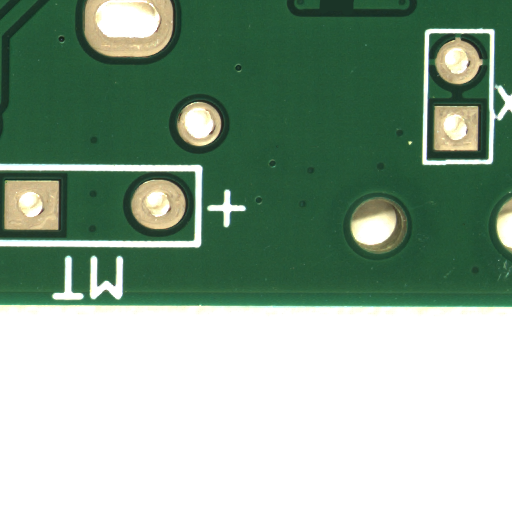Open_circuit: (336, 5, 372, 15)
